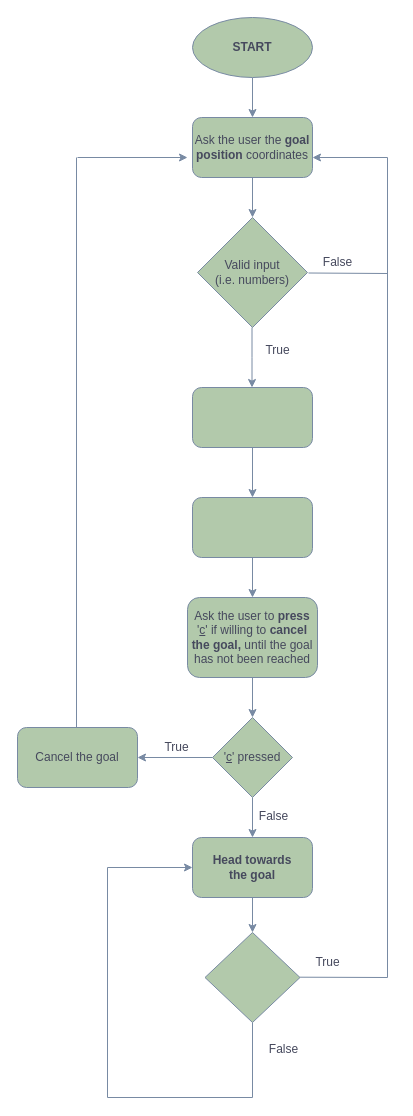
This 413x1116 diagram has some shape labels left out. The shapes that lost their labels are listed below. From the top down, each one's centre as x and y in pixels, then its label:
(252,417): Generate the goal message
(252,527): Send the goal to the action server
(252,977): Target reached
